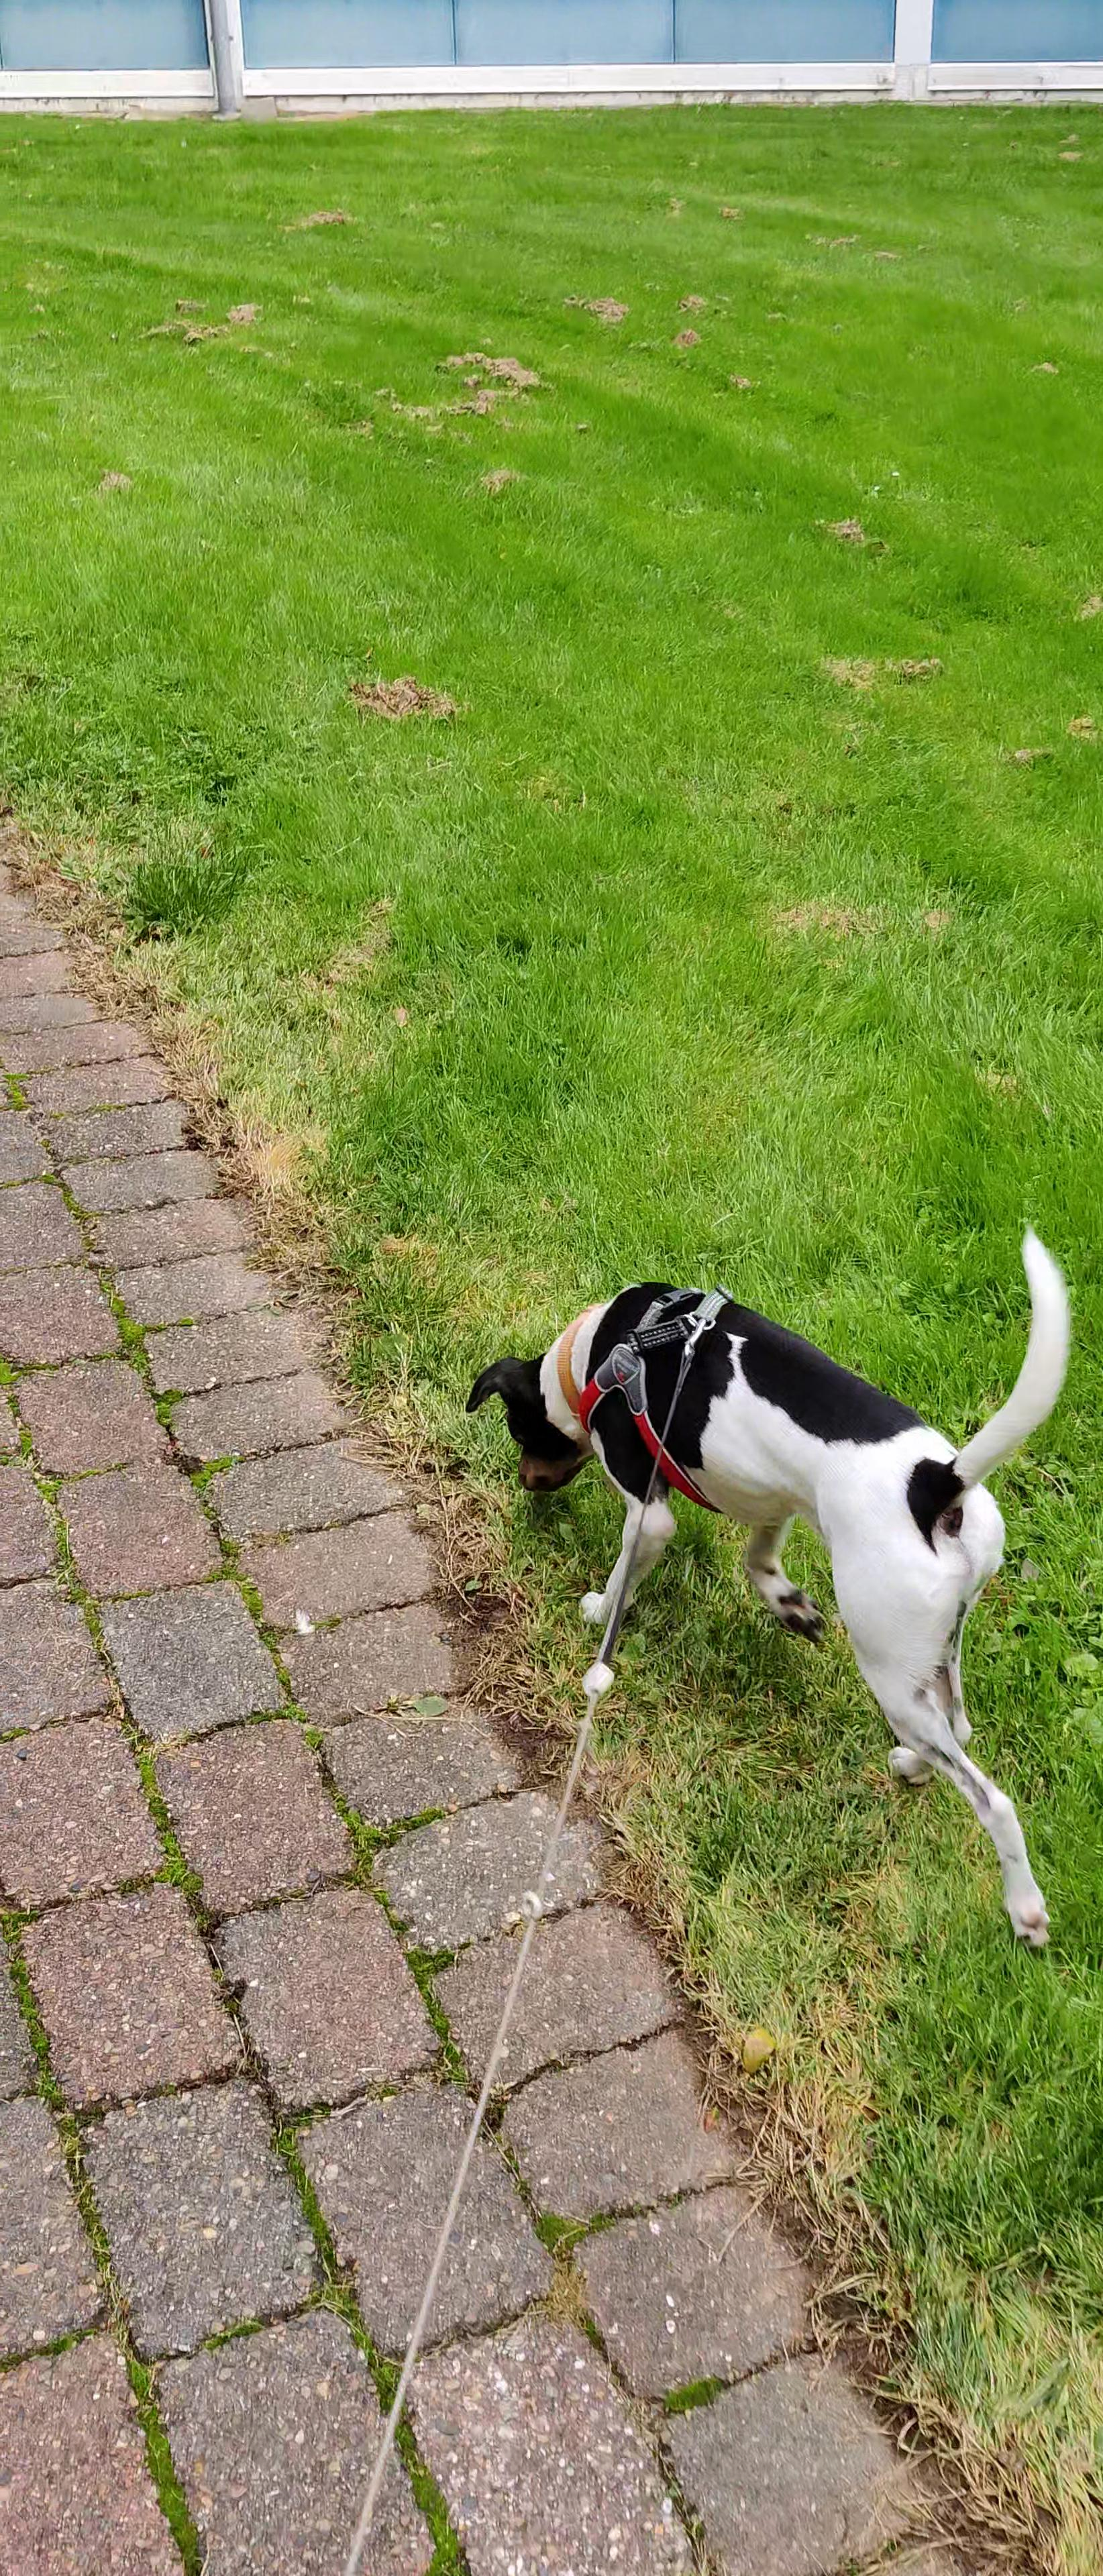Dog: (441, 1181, 1088, 1958)
